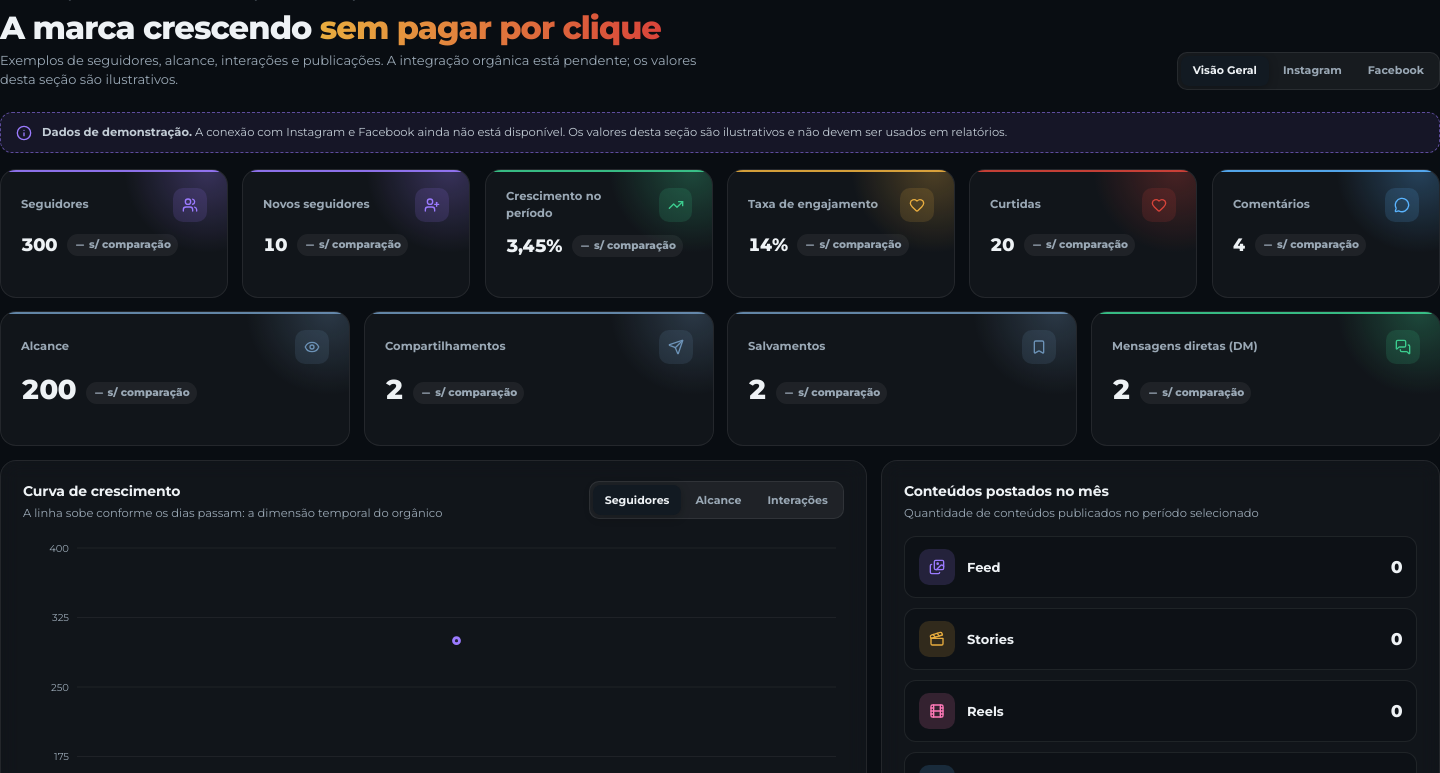
Scenario: Orgânico: Instagram e Facebook › filtra Instagram e Facebook sem recarregar a página
The image size is (1440, 773).
Click the tab "Instagram" at coordinates (1312, 71), box [1271, 56, 1354, 86]
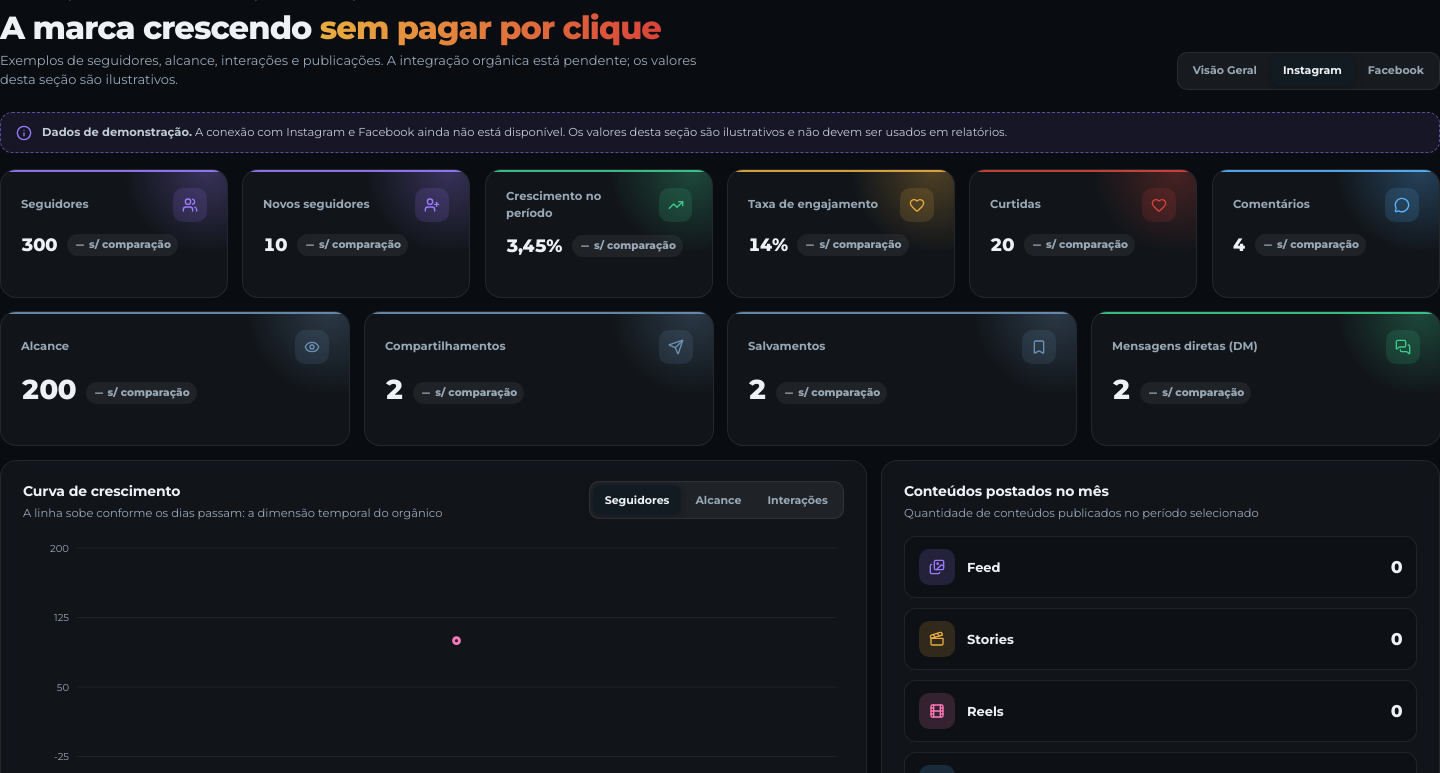
Click the tab "Facebook" at coordinates (1396, 71), box [1356, 56, 1436, 86]
(page scrolled)
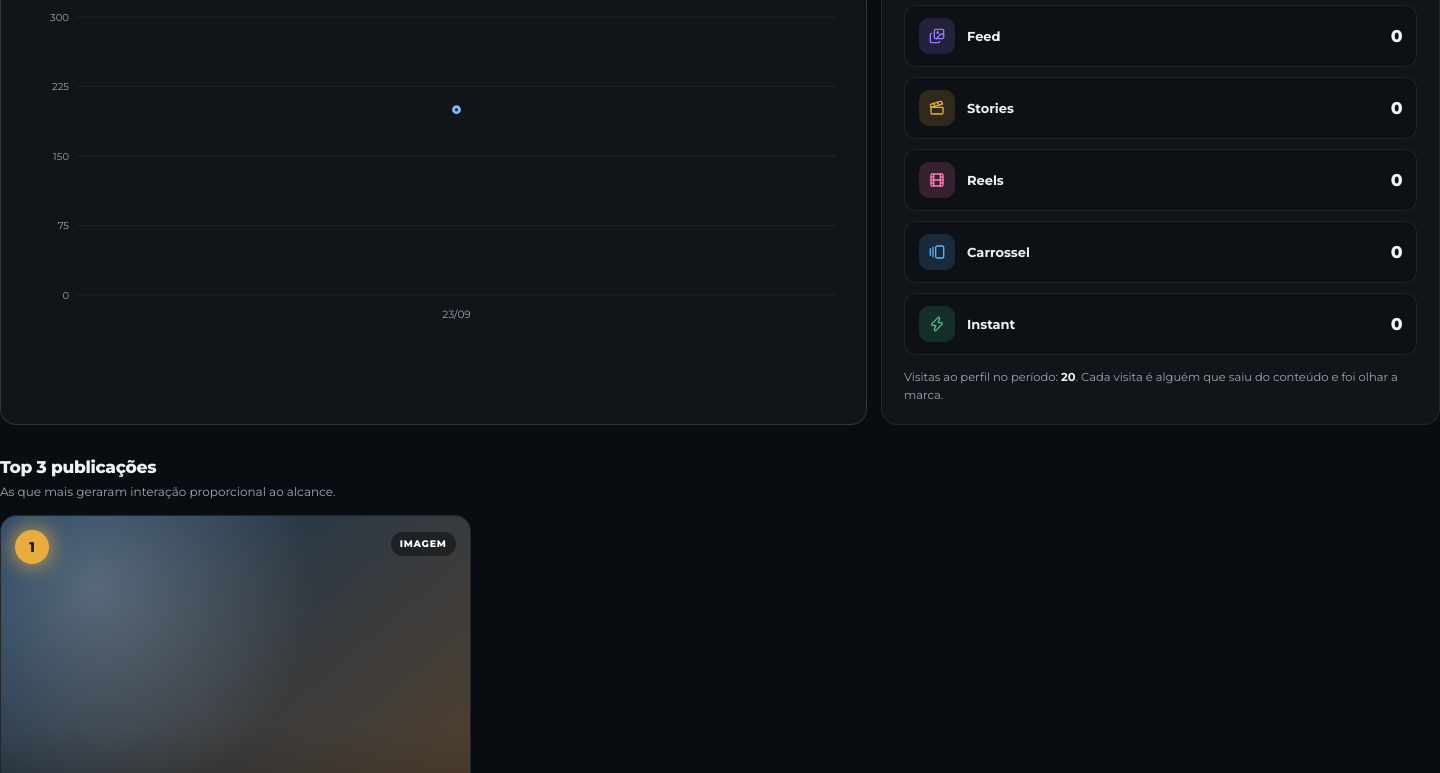
Now the text "Visitas ao perfil no período:" shows "20", box [1061, 370, 1075, 384]
